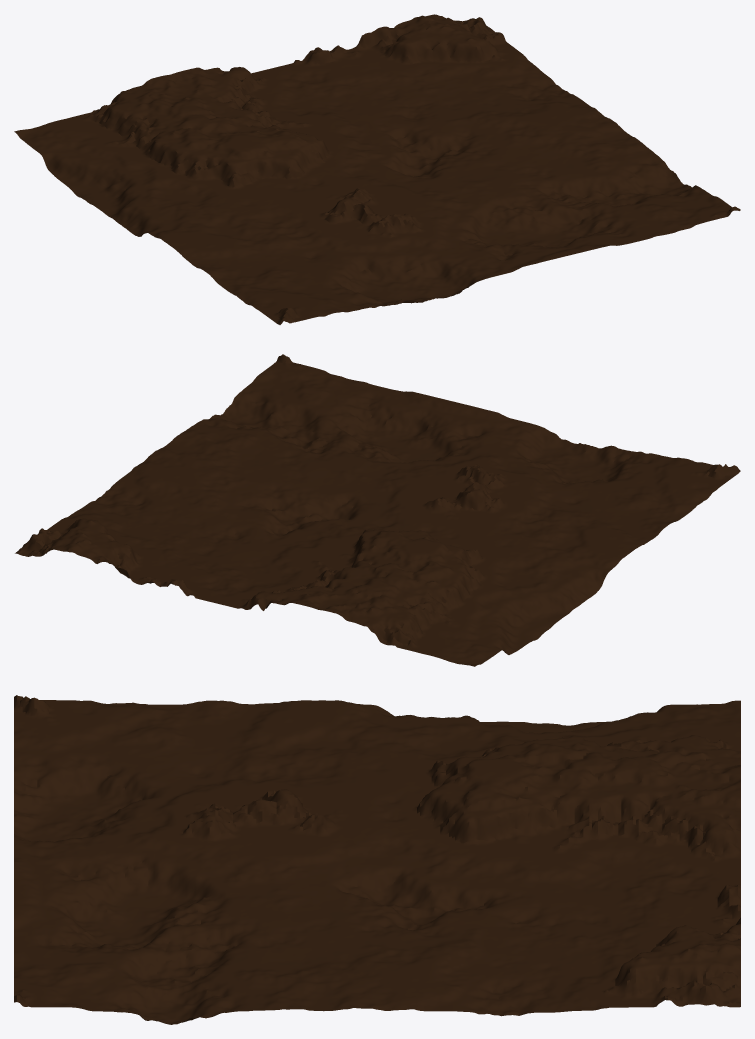
File: 2x2.3_Squares_200m_008.glb
3 views of the same model, one above another, from view 1: azimuth 30°, elevation 25°; view 2: azimuth 150°, elevation 25°; view 3: azimuth 270°, elevation 25° (orthographic). The views are drawn at different scales.
Parts seen in each view (by area): view 1: Cube; view 2: Cube; view 3: Cube.
Boxes of the visible parts, box(x1,y1,x2,y2) form: Cube: box(14, 14, 740, 324); Cube: box(15, 354, 740, 666); Cube: box(14, 695, 740, 1024).
Bounding box in the file's own units: 500 × 39.45 × 500.
